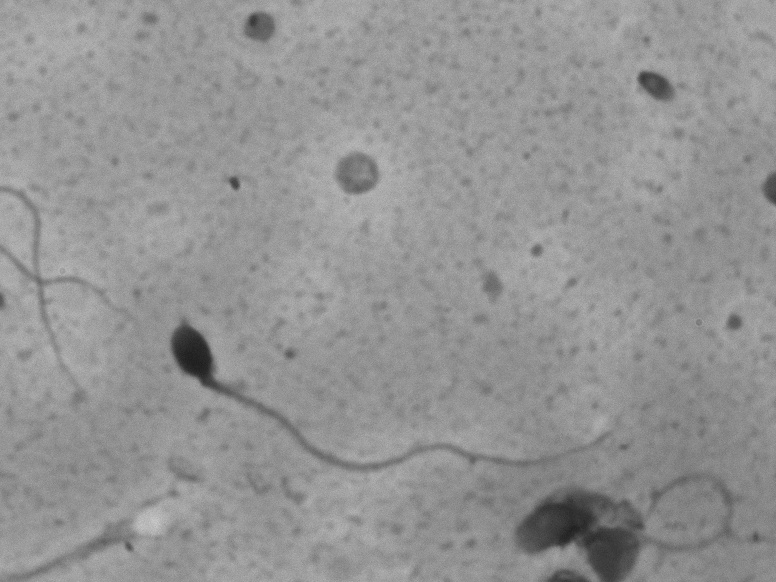Normal: (163, 290, 632, 489)
